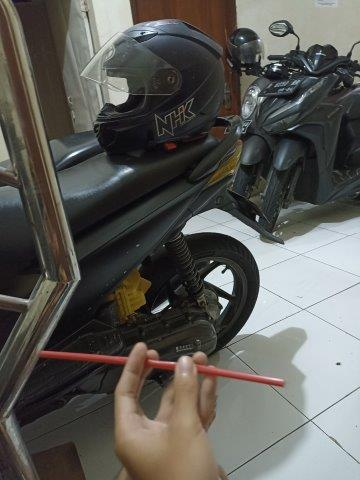sedotan: (39, 350, 283, 386)
